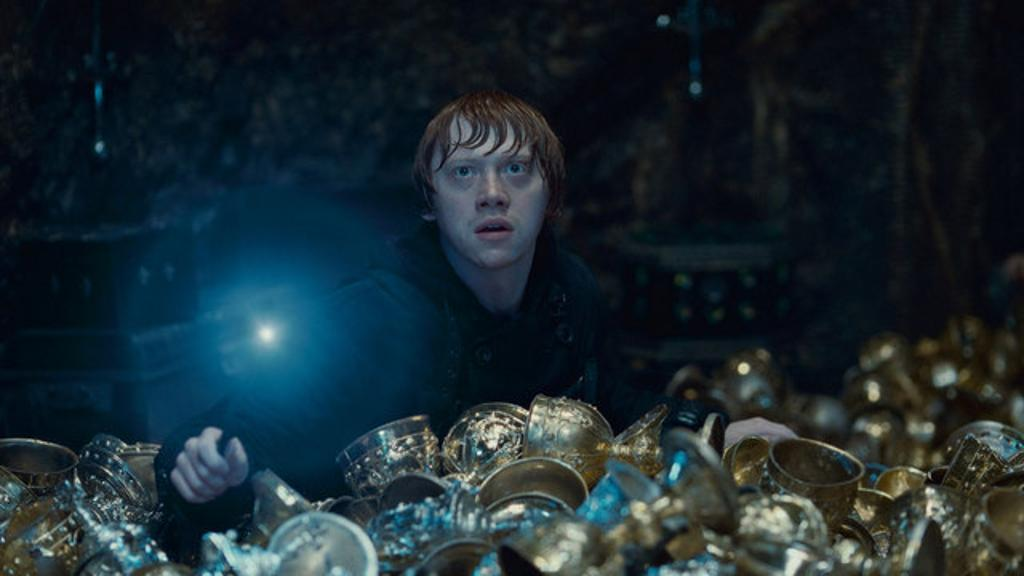face: (432, 120, 548, 270)
